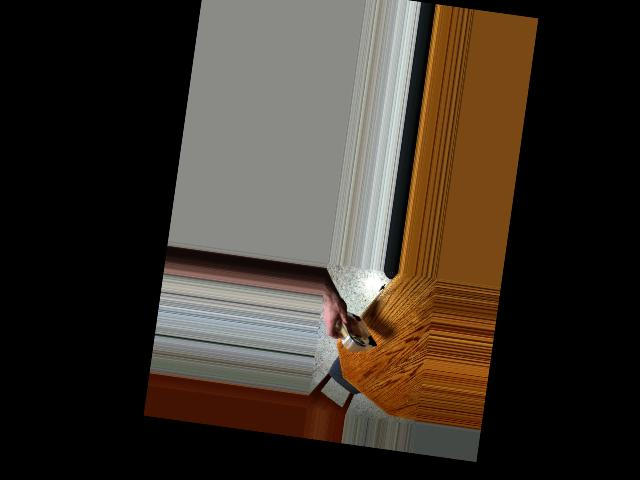cheese: (333, 299, 382, 361)
